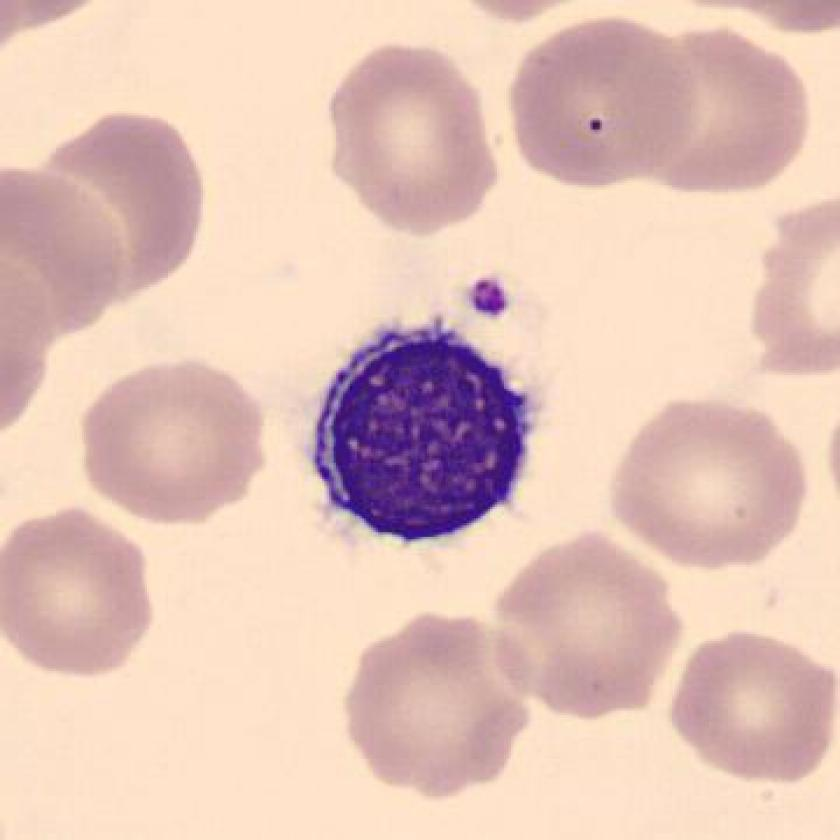lymphocyte: (300, 311, 542, 566)
